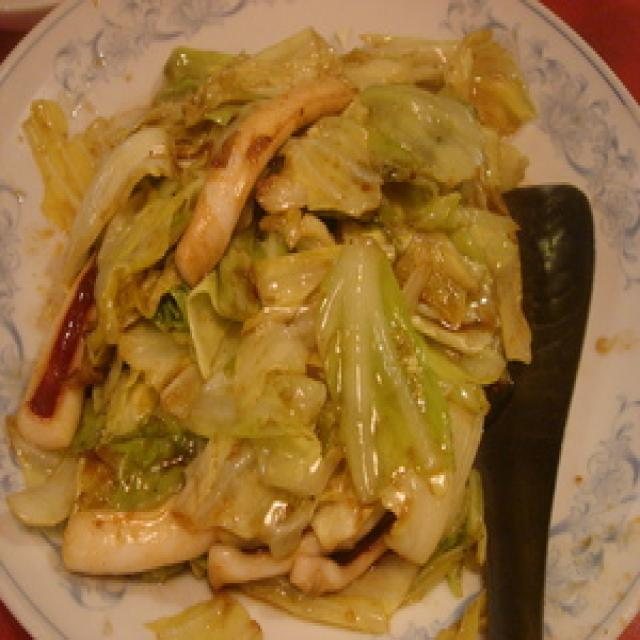蔬菜料理: (15, 26, 595, 588)
